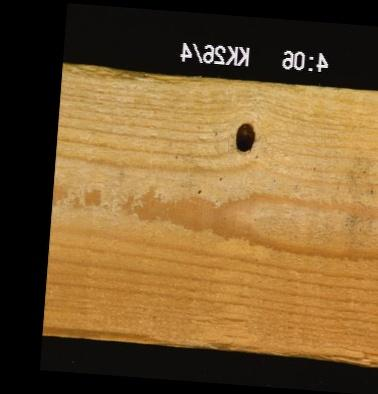wave: (61, 66, 210, 84), (42, 323, 170, 339), (200, 333, 261, 348)
